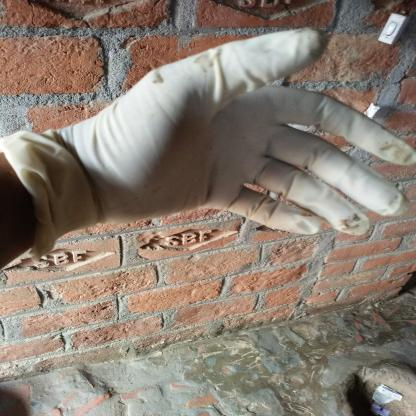gloved_hand: (1, 25, 415, 260)
